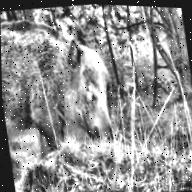boar: (0, 0, 128, 179)
